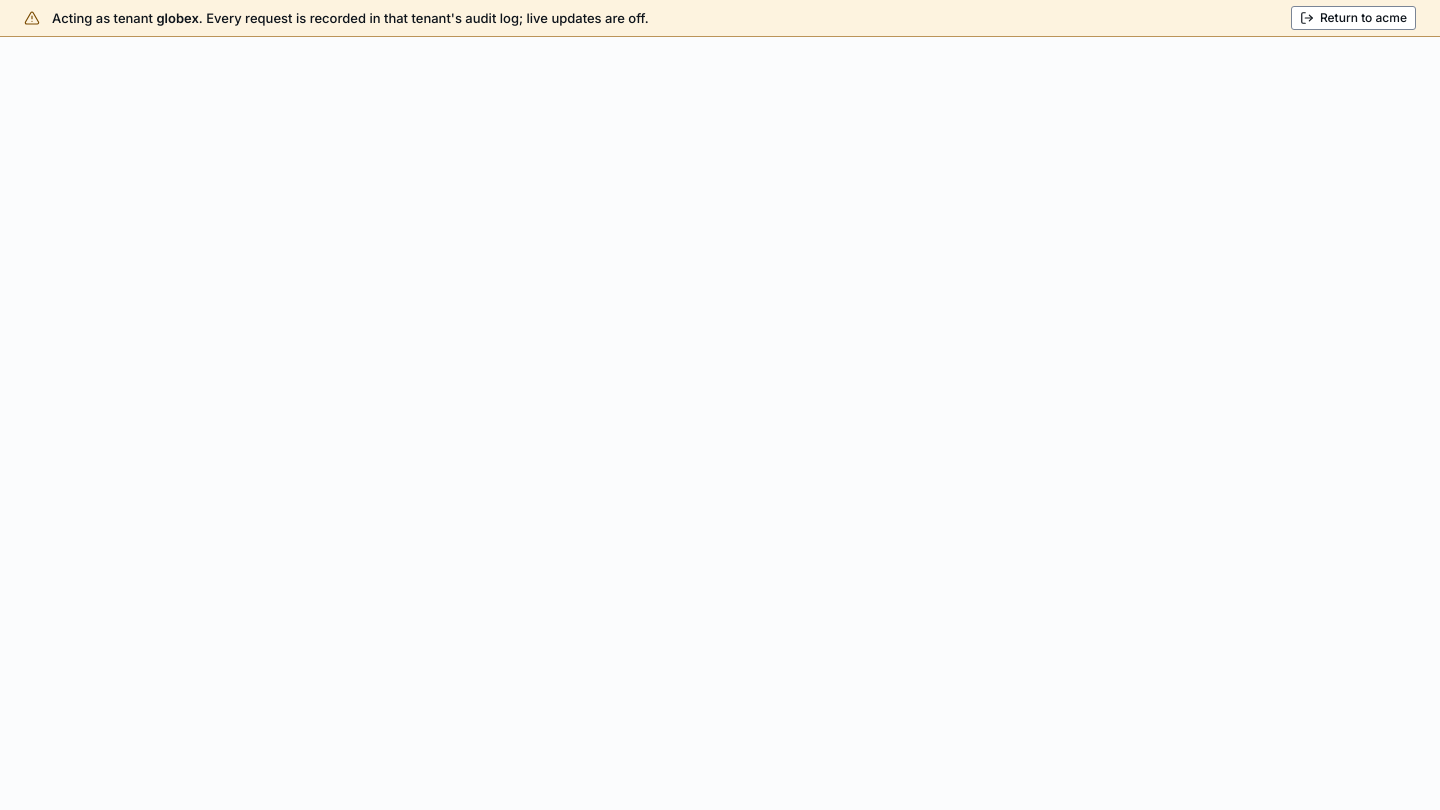
Test case: tenant switcher › shows the banner while acting on another tenant, until returning home
Expected: the text "live updates are off" shows "Acting as tenant globex. Every request is recorded", top-left (52, 10), bottom-right (649, 26)
Click the button "Return to acme": x=1354, y=18 top-left (1291, 6), bottom-right (1416, 30)
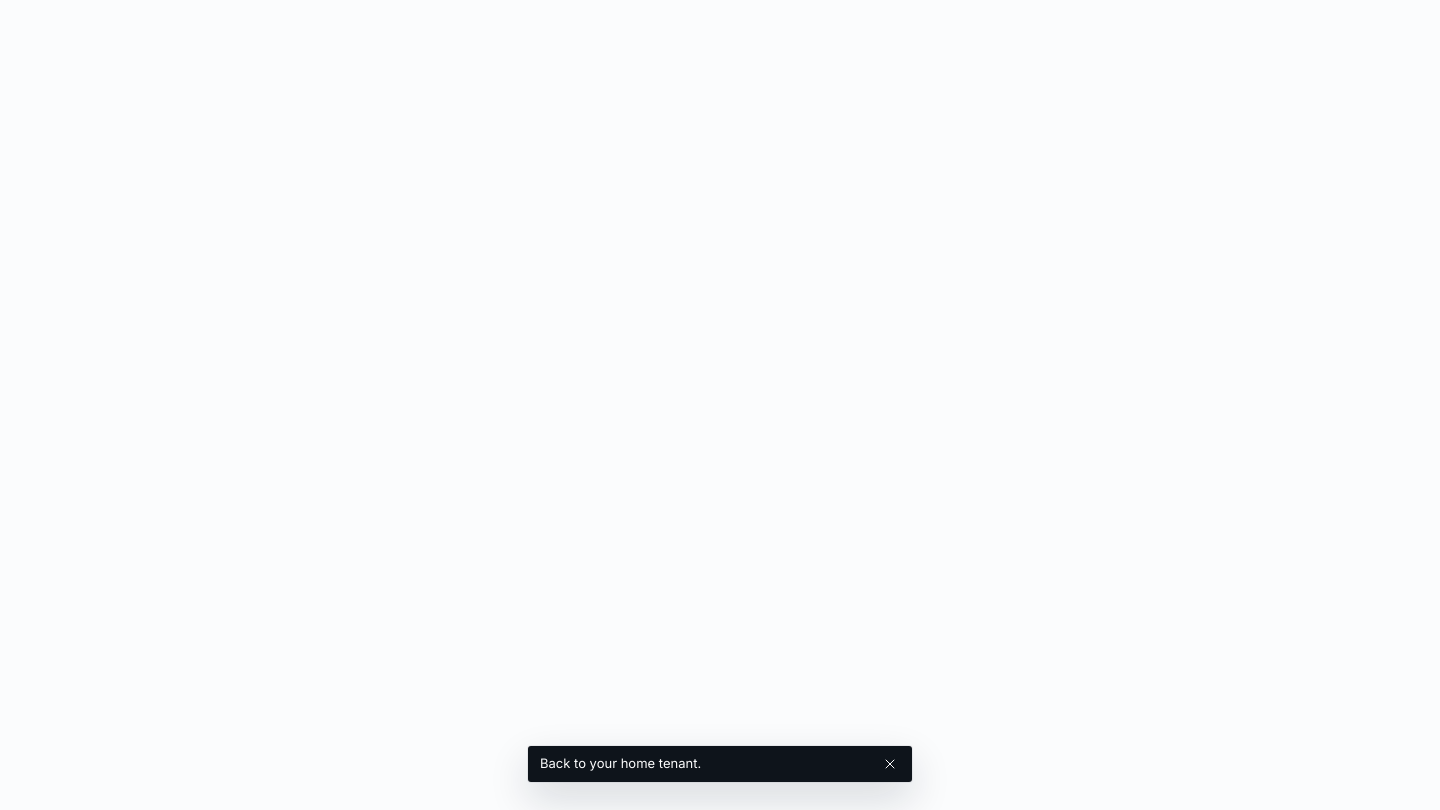
Now the text "Back to your home tenant." is shown, box top-left (540, 755), bottom-right (701, 771)
Now the text "live updates are off" is gone
